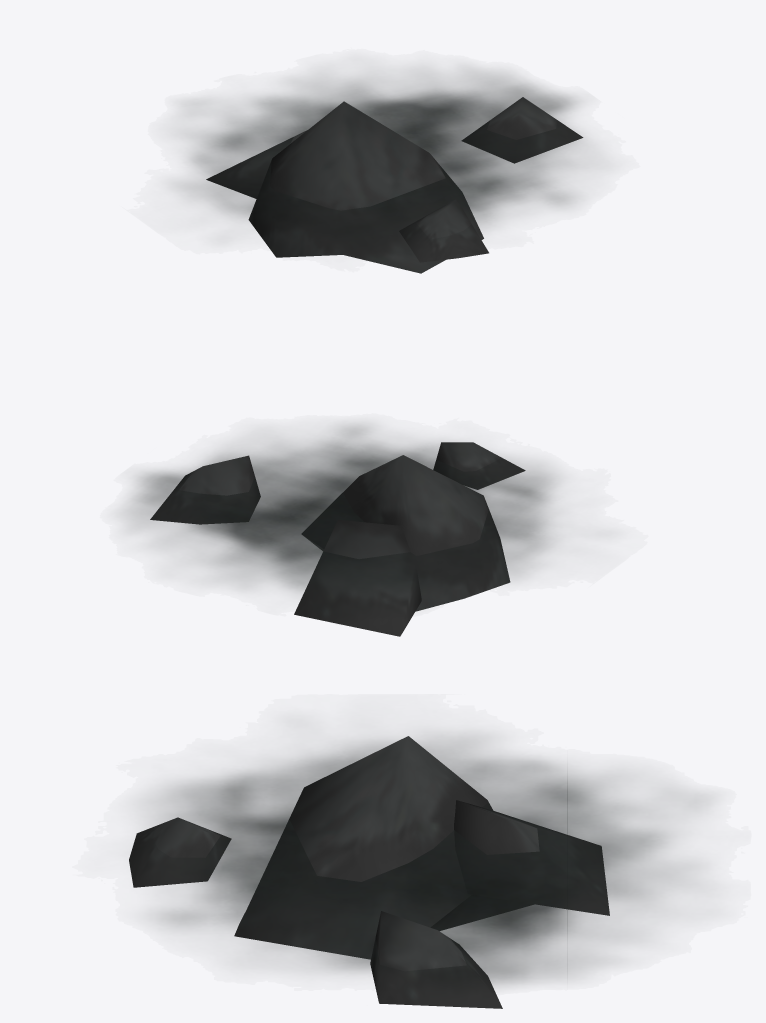
3 views of the same model, one above another, from view 1: azimuth 30°, elevation 25°; view 2: azimuth 150°, elevation 25°; view 3: azimuth 270°, elevation 25° (orthographic). The views are drawn at different scales.
Visible parts, largest first — view 1: plants_small_rock_a-1-underlay, plants_small_rock_a-0-plant; view 2: plants_small_rock_a-1-underlay, plants_small_rock_a-0-plant; view 3: plants_small_rock_a-1-underlay, plants_small_rock_a-0-plant.
Part boxes in pixels (bbox=[...]): plants_small_rock_a-1-underlay: bbox=[181, 71, 582, 249]; plants_small_rock_a-0-plant: bbox=[206, 97, 583, 273]; plants_small_rock_a-1-underlay: bbox=[126, 424, 556, 612]; plants_small_rock_a-0-plant: bbox=[150, 442, 525, 636]; plants_small_rock_a-1-underlay: bbox=[153, 736, 698, 994]; plants_small_rock_a-0-plant: bbox=[129, 736, 609, 1008].
Bounding box in the file's own units: 2 × 0.5339 × 2.
2 materials, 2 textured.
